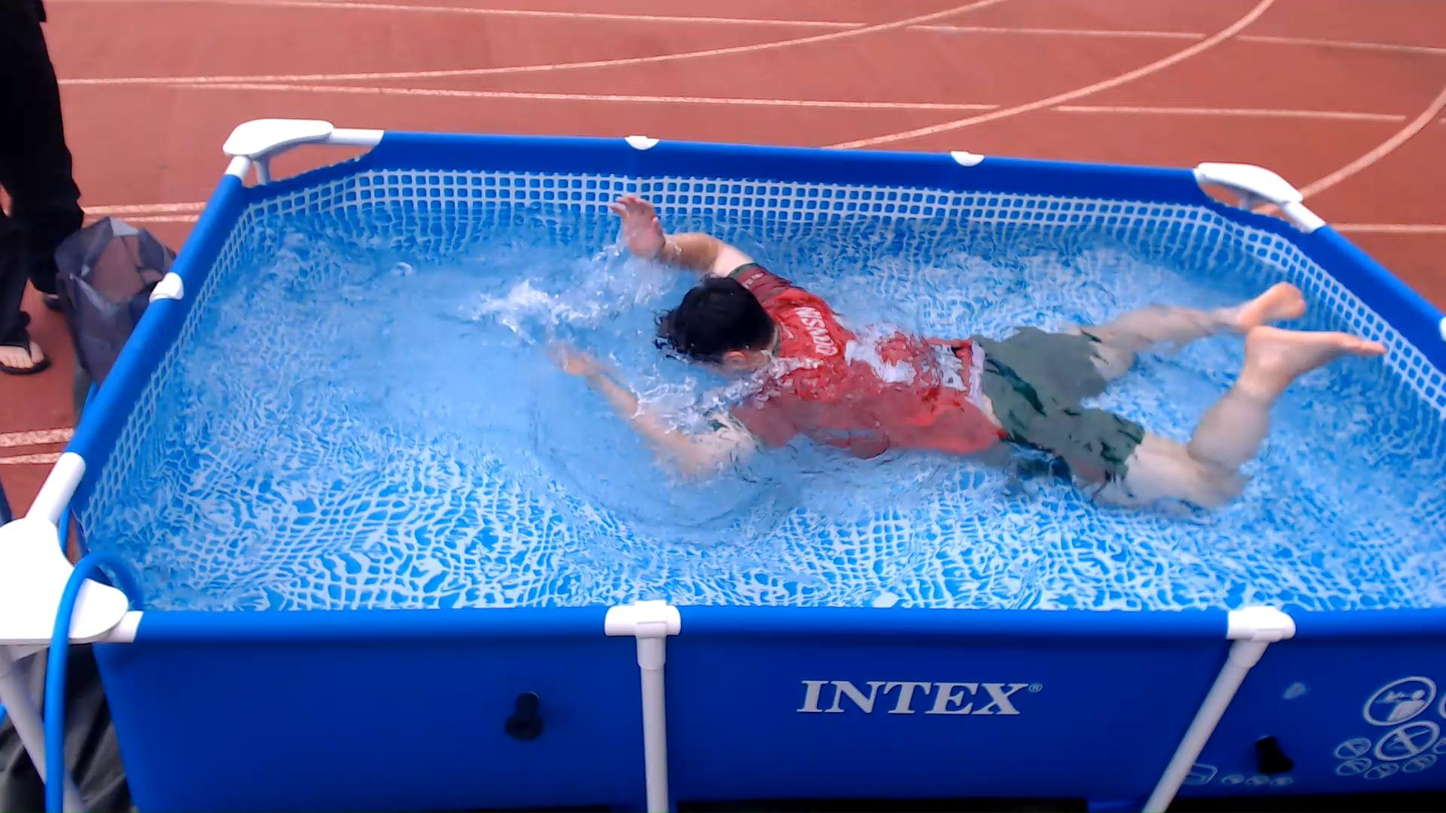Drowning: (461, 160, 1407, 570)
